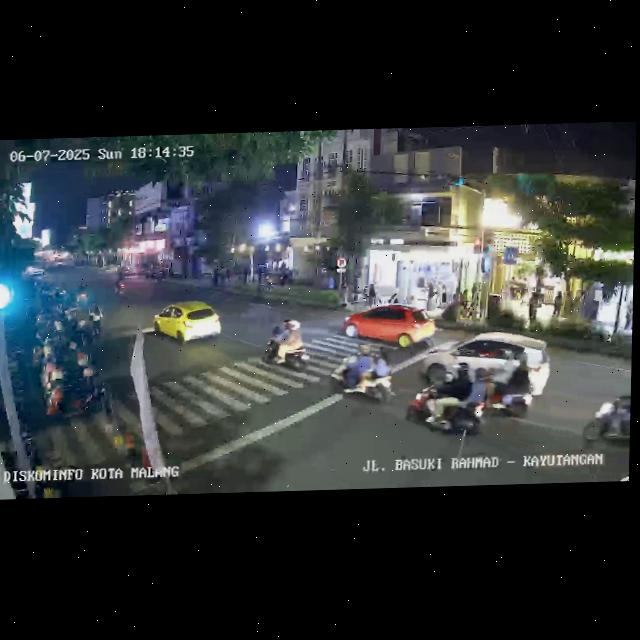car: (419, 330, 550, 404), (347, 302, 438, 354), (150, 300, 224, 349)
motorcycle: (405, 356, 488, 441), (330, 342, 397, 409), (481, 349, 537, 420), (581, 390, 631, 457), (262, 316, 314, 378), (114, 271, 129, 297)
person: (526, 291, 539, 327), (551, 291, 563, 322), (624, 297, 633, 332), (426, 282, 436, 308), (440, 283, 448, 308)
